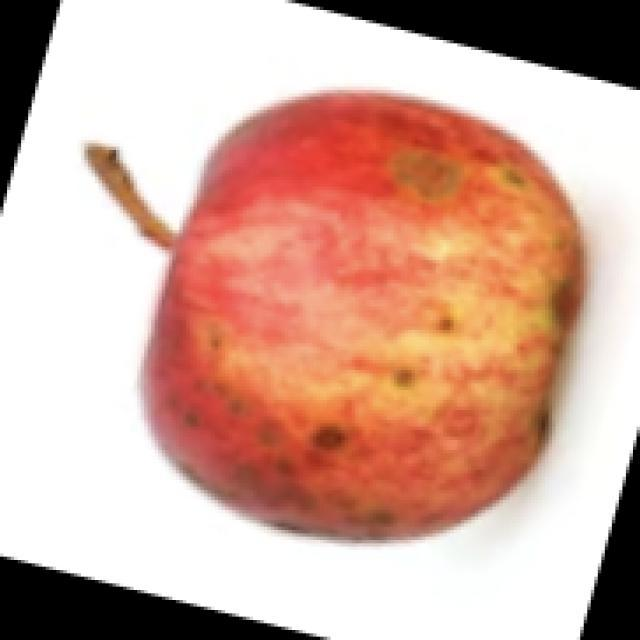Rotten: (126, 87, 586, 560)
